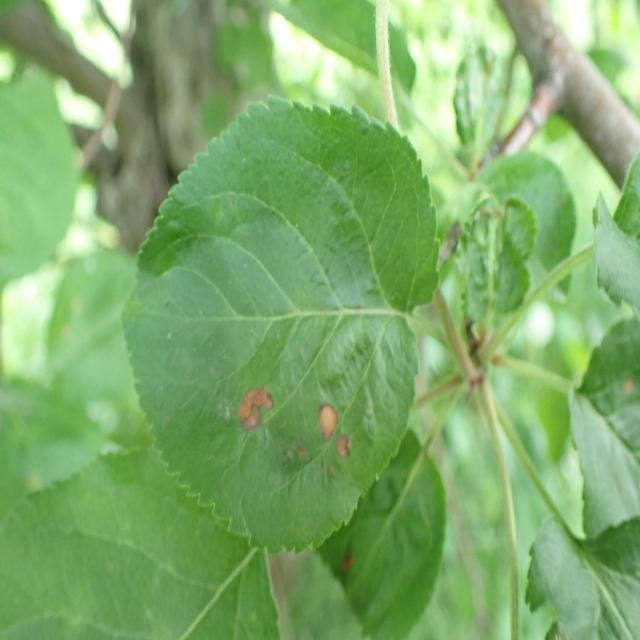Black Rot: (223, 377, 283, 438), (326, 438, 366, 474), (316, 396, 340, 452)
